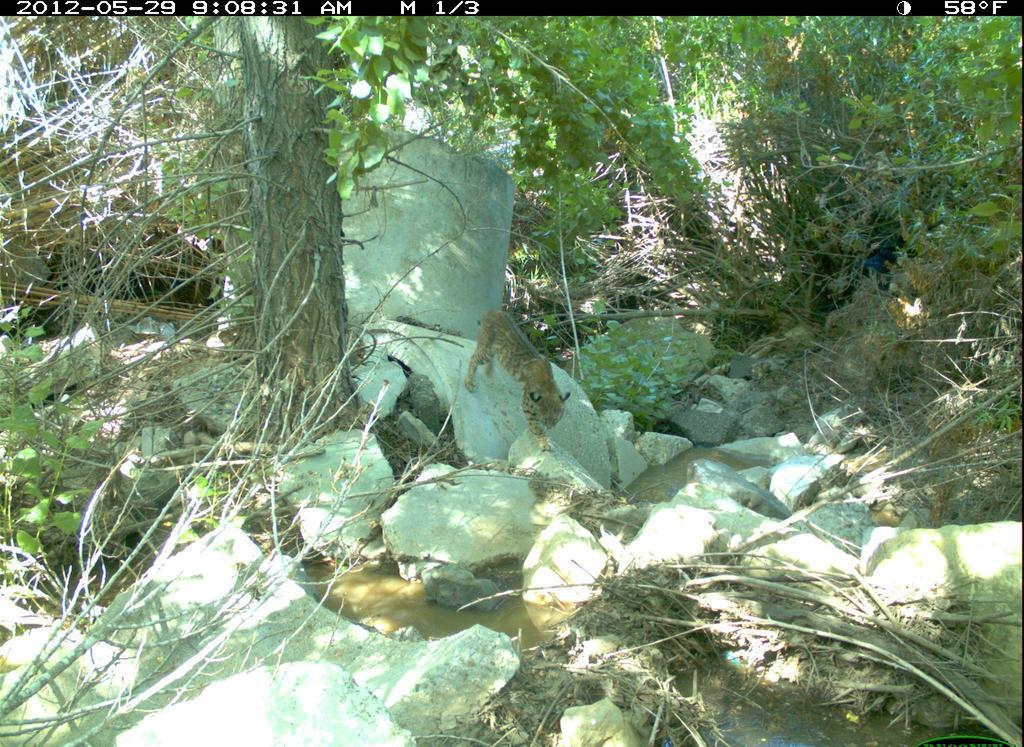bobcat: (459, 303, 575, 460)
